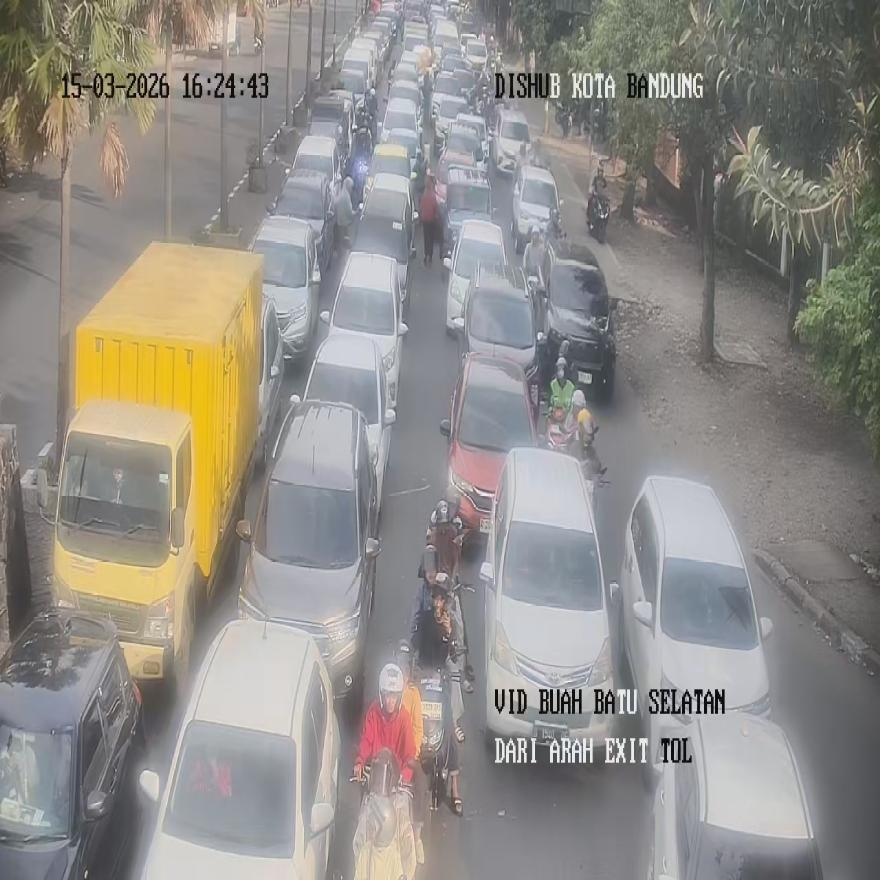Mobil: (135, 620, 339, 878), (612, 474, 773, 790), (236, 397, 380, 702), (479, 446, 618, 754), (0, 608, 146, 878), (646, 712, 824, 878), (292, 331, 394, 523), (440, 352, 538, 535), (319, 250, 407, 410), (536, 237, 618, 397), (458, 259, 540, 397), (248, 213, 321, 358), (442, 216, 507, 335), (511, 162, 564, 256)
Motor: (544, 405, 577, 454), (587, 192, 609, 244)
Truk ringan: (36, 242, 262, 698)
